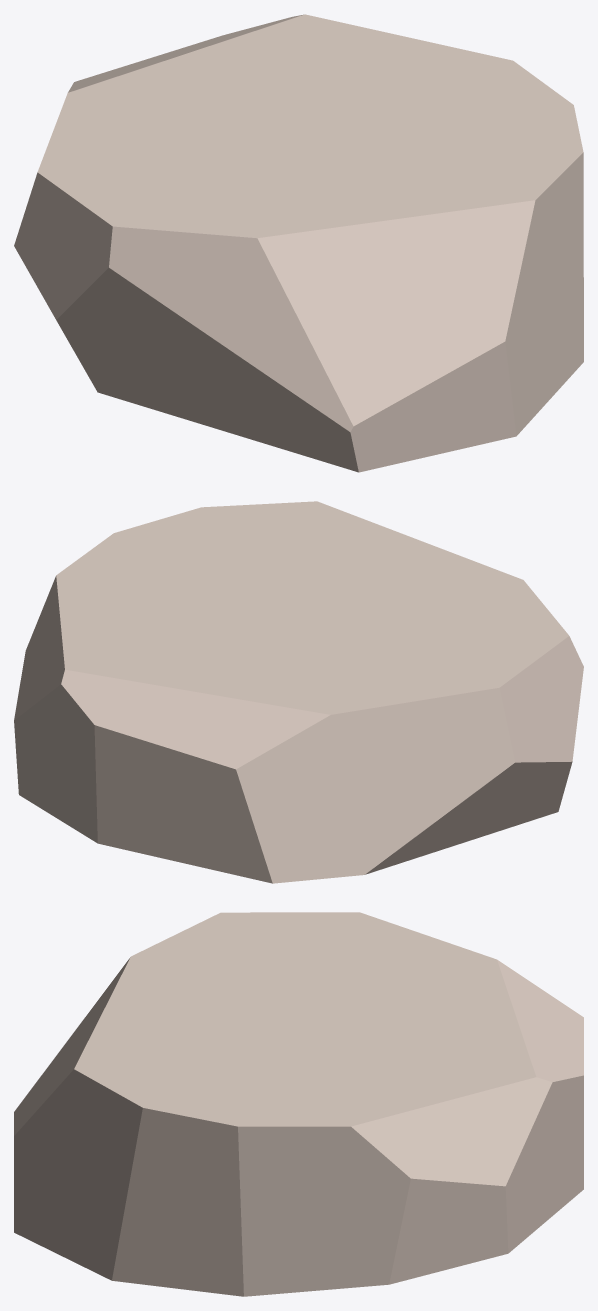
File: stone3.fbx
The picture shows the model from 3 angles, top to bottom: view 1: azimuth 30°, elevation 25°; view 2: azimuth 150°, elevation 25°; view 3: azimuth 270°, elevation 25°; orthographic projection. The views are drawn at different scales.
Parts seen in each view (by area): view 1: 立方体.002; view 2: 立方体.002; view 3: 立方体.002.
Part boxes in pixels (x1,y1,x2,y2): 立方体.002: (14,14,583,472); 立方体.002: (14,501,583,883); 立方体.002: (14,912,583,1296).
Bounding box in the file's own units: 125 × 47.75 × 132.
